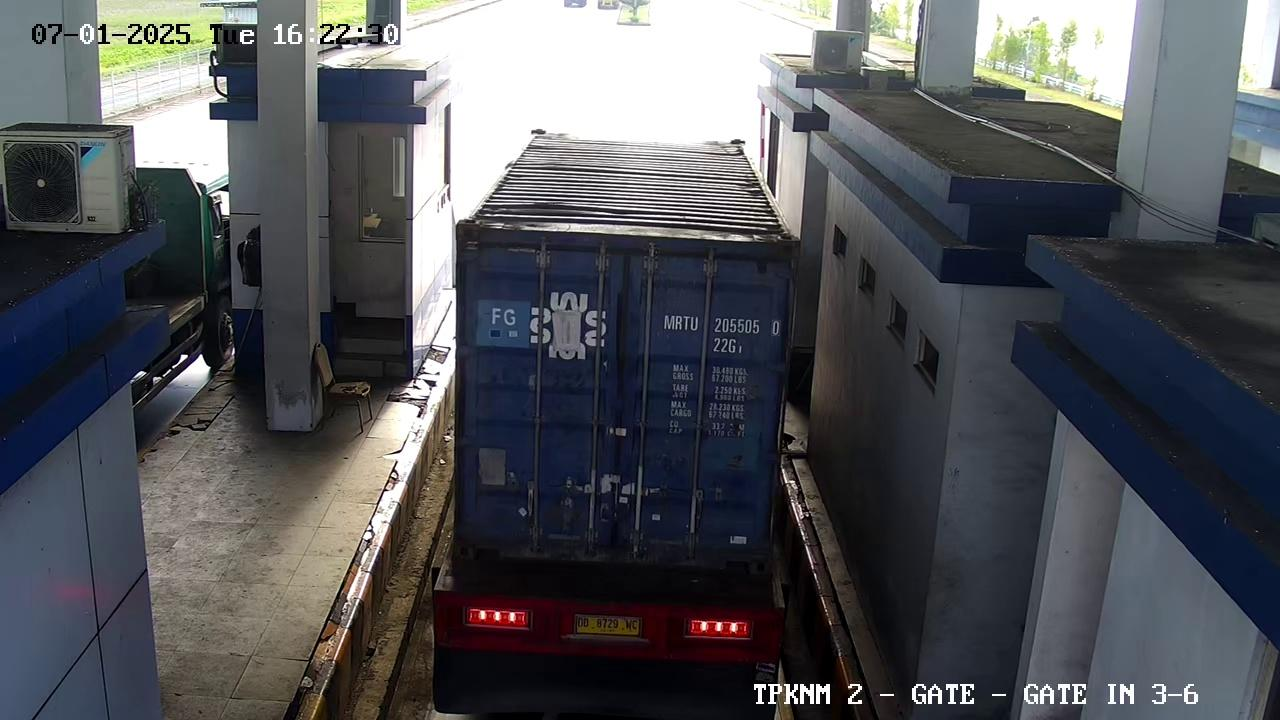Container_ID: (655, 314, 793, 338)
plate_number: (562, 606, 653, 648)
